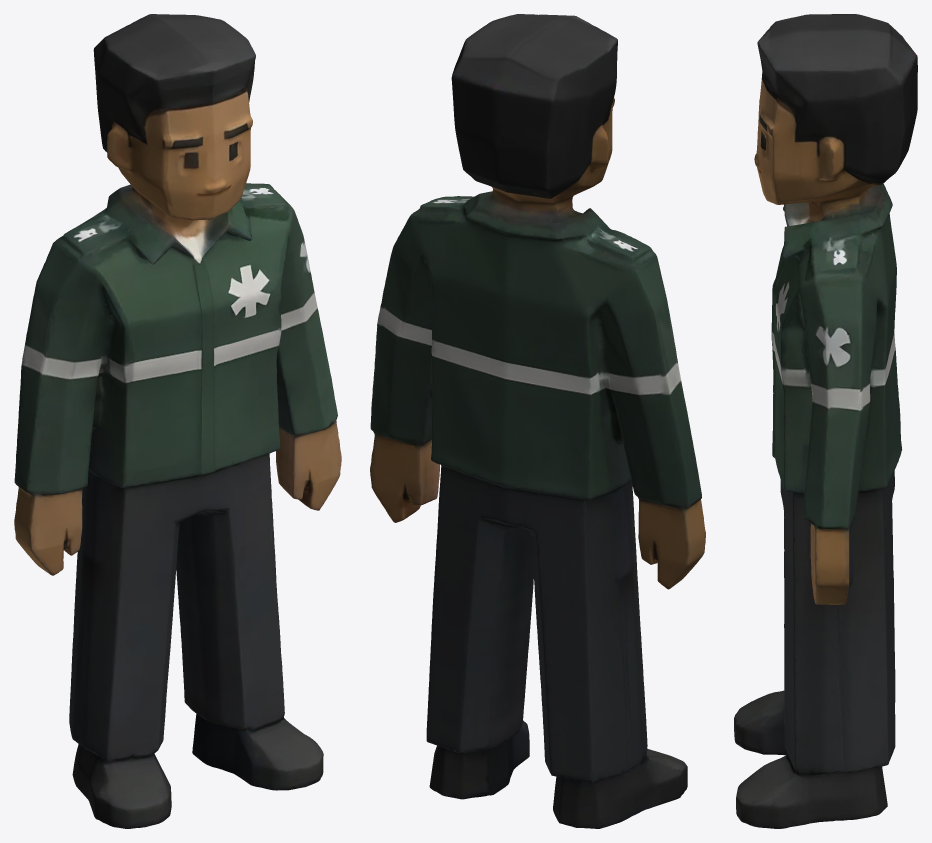
File: paramedic-guide.glb
The picture shows the model from 3 angles, left to right: view 1: azimuth 30°, elevation 25°; view 2: azimuth 150°, elevation 25°; view 3: azimuth 270°, elevation 25°; orthographic projection. The views are drawn at different scales.
Parts seen in each view (by area): view 1: input; view 2: input; view 3: input.
Part boxes in pixels (left/top/right/bottom): input: left=14, top=14, right=341, bottom=828; input: left=370, top=14, right=705, bottom=828; input: left=734, top=14, right=917, bottom=828.
Bounding box in the file's own units: 0.7923 × 1.8 × 0.4019.
Materials: 1 (1 with a texture image).
